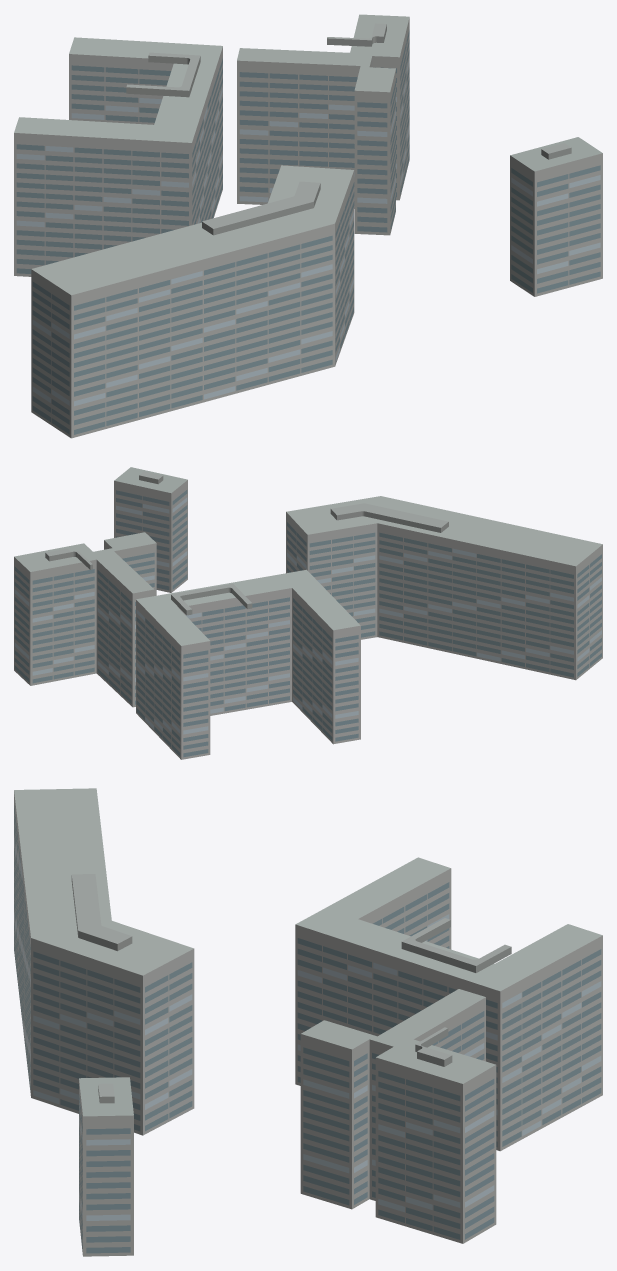
The model's file is apt-a15286805.glb.
3 views of the same model, one above another, from view 1: azimuth 30°, elevation 25°; view 2: azimuth 150°, elevation 25°; view 3: azimuth 270°, elevation 25° (orthographic). The views are drawn at different scales.
Visible parts, largest first — view 1: apt-a15286805; view 2: apt-a15286805; view 3: apt-a15286805.
Part boxes in pixels (left/top/right/bottom): apt-a15286805: left=14, top=14, right=602, bottom=438; apt-a15286805: left=14, top=467, right=602, bottom=759; apt-a15286805: left=14, top=788, right=602, bottom=1256.
Bounding box in the file's own units: 189 × 47.81 × 153.
